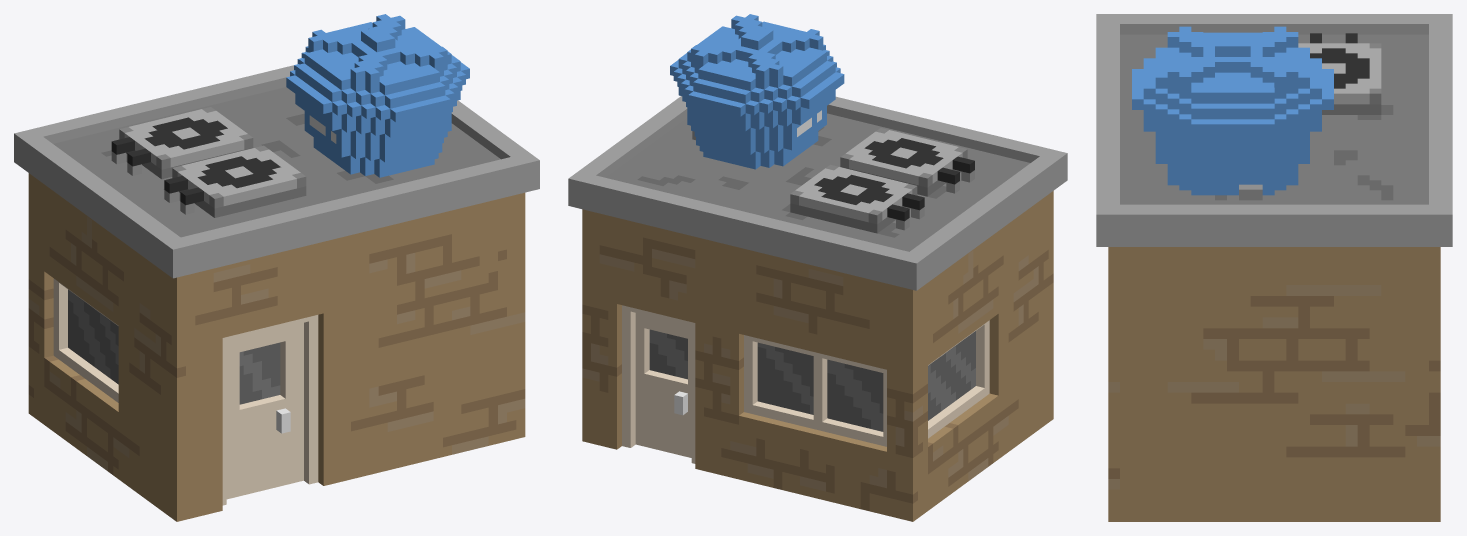
File: variaçõesdecorcasa-8.obj
3 views of the same model, side by side, from view 1: azimuth 30°, elevation 25°; view 2: azimuth 150°, elevation 25°; view 3: azimuth 270°, elevation 25° (orthographic). The views are drawn at different scales.
Bounding box in the file's own units: 4 × 4 × 3.
Materials: 1 (1 with a texture image).
